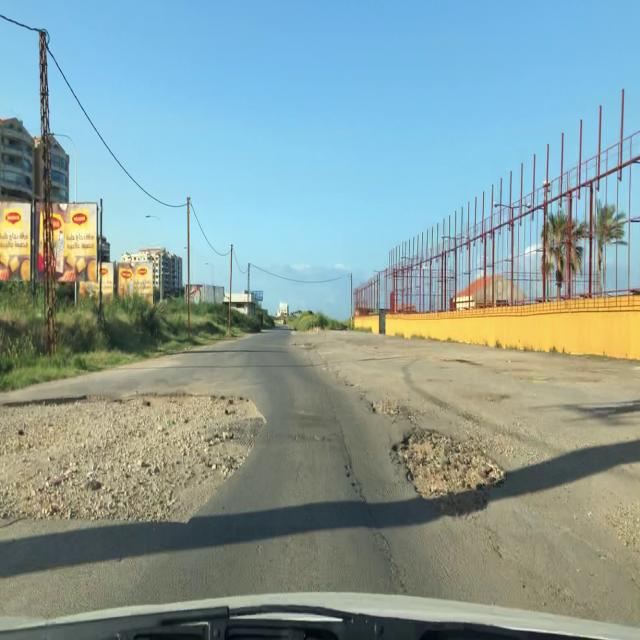Pothole: (1, 379, 270, 534), (382, 420, 515, 520), (369, 400, 400, 418), (289, 341, 317, 348)
